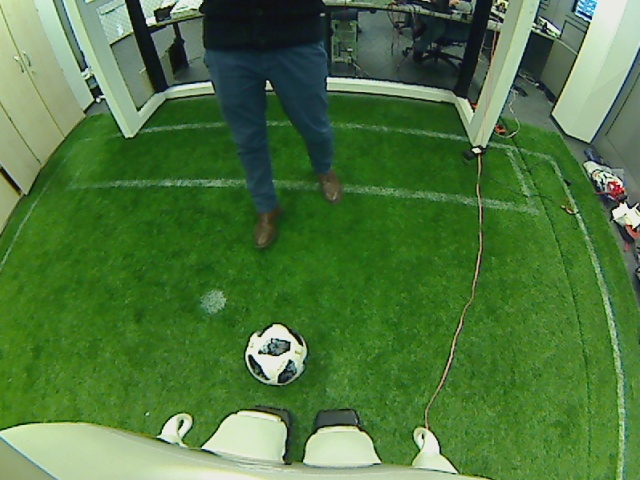ball: (241, 321, 309, 390)
